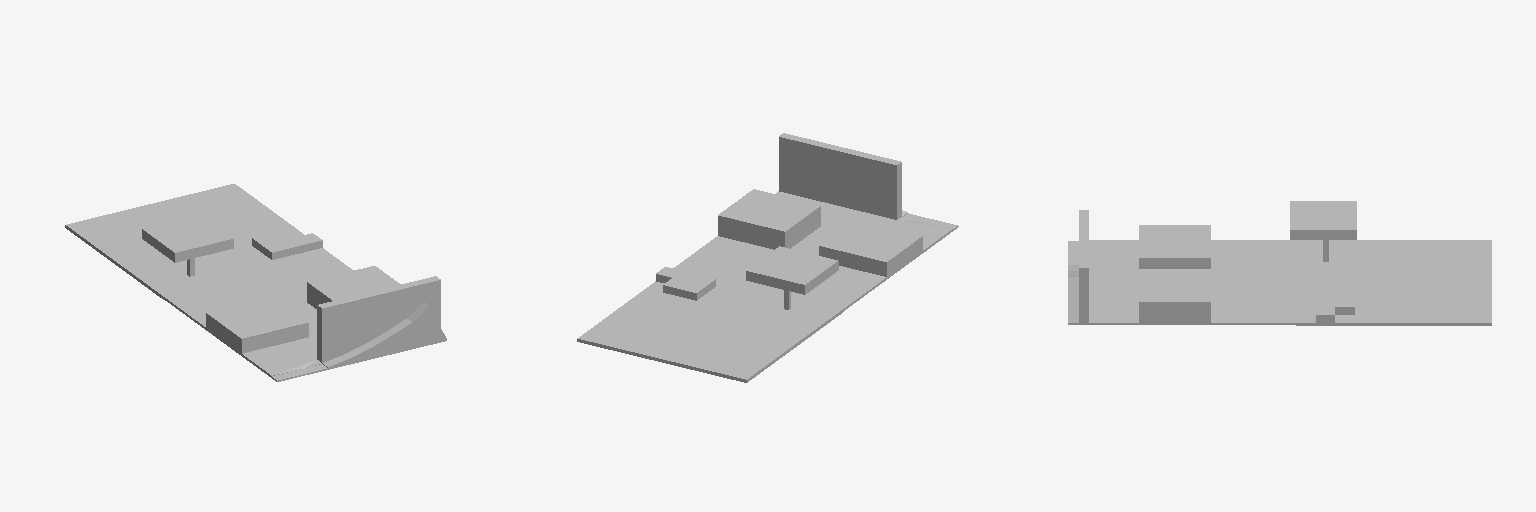
Rendered from bataille.obj.
3 views of the same model, side by side, from view 1: azimuth 30°, elevation 25°; view 2: azimuth 150°, elevation 25°; view 3: azimuth 270°, elevation 25° (orthographic).
Visible parts, largest first — view 1: Terrain; view 2: Terrain; view 3: Terrain.
Boxes of the visible parts, x1,y1,x2,y2 form: Terrain: [65, 184, 446, 381]; Terrain: [577, 133, 958, 382]; Terrain: [1068, 201, 1491, 325].
Size of the model in its own units: 42.15 by 13.81 by 91.37.